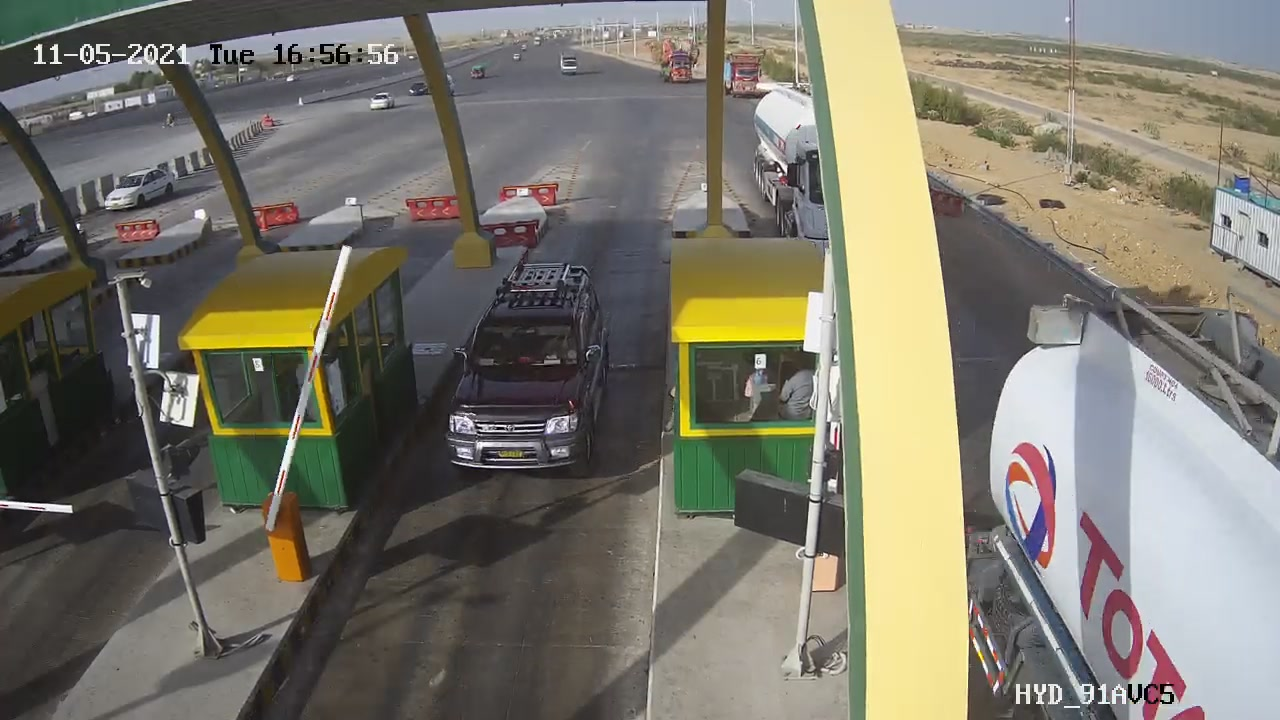F1: (423, 240, 624, 501)
